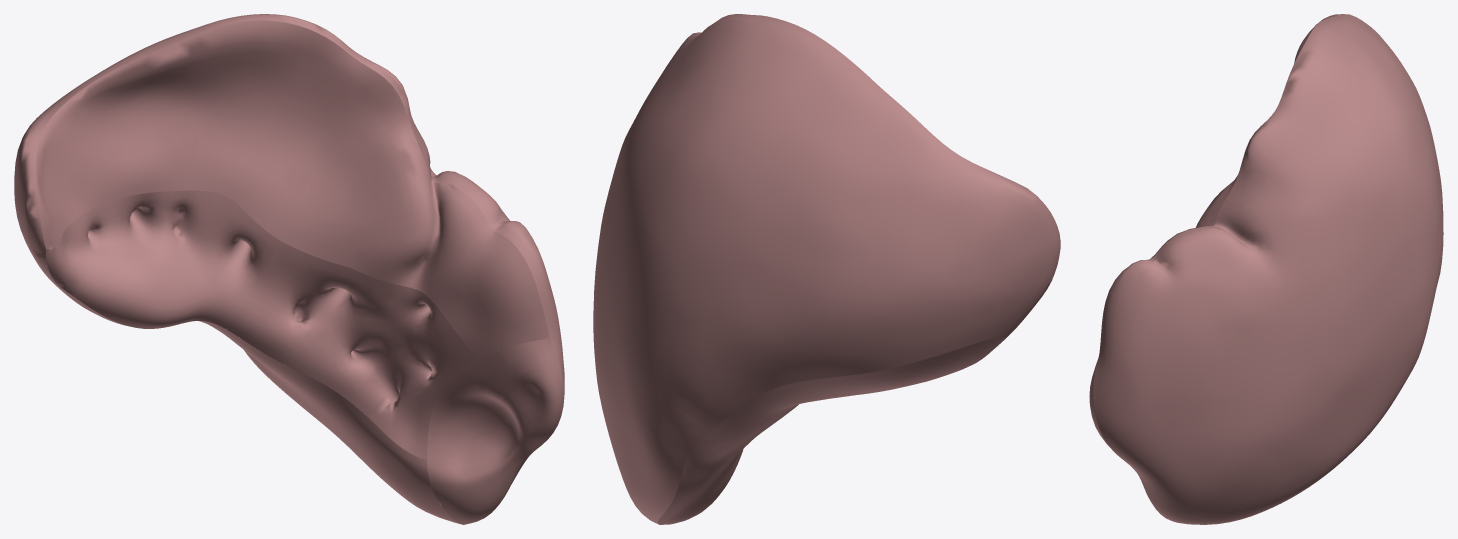
Rendered from vh_m_spleen-80.glb.
3 renders of one model, left to right at view 1: azimuth 30°, elevation 25°; view 2: azimuth 150°, elevation 25°; view 3: azimuth 270°, elevation 25°, orthographic. The views are drawn at different scales.
Parts seen in each view (by area): view 1: VH_M_gastric_surface_of_spleen, VH_M_hilum_of_spleen, VH_M_colic_surface_of_spleen, VH_M_diaphragmatic_surface_of_spleen, VH_M_renal_surface_of_spleen; view 2: VH_M_diaphragmatic_surface_of_spleen, VH_M_renal_surface_of_spleen; view 3: VH_M_diaphragmatic_surface_of_spleen, VH_M_gastric_surface_of_spleen.
Boxes of the visible parts, left/top/right/bottom form: VH_M_gastric_surface_of_spleen: left=35, top=20, right=549, bottom=359; VH_M_hilum_of_spleen: left=45, top=190, right=477, bottom=458; VH_M_colic_surface_of_spleen: left=427, top=337, right=564, bottom=524; VH_M_diaphragmatic_surface_of_spleen: left=14, top=14, right=564, bottom=504; VH_M_renal_surface_of_spleen: left=51, top=281, right=459, bottom=523; VH_M_diaphragmatic_surface_of_spleen: left=593, top=14, right=1060, bottom=523; VH_M_renal_surface_of_spleen: left=657, top=337, right=1006, bottom=524; VH_M_diaphragmatic_surface_of_spleen: left=1093, top=14, right=1443, bottom=524; VH_M_gastric_surface_of_spleen: left=1149, top=27, right=1314, bottom=259.
Bounding box in the file's own units: 0.1104 × 0.1186 × 0.0886.
